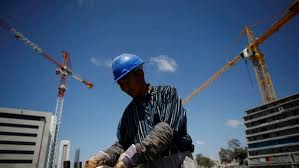helmet: (110, 52, 142, 77)
